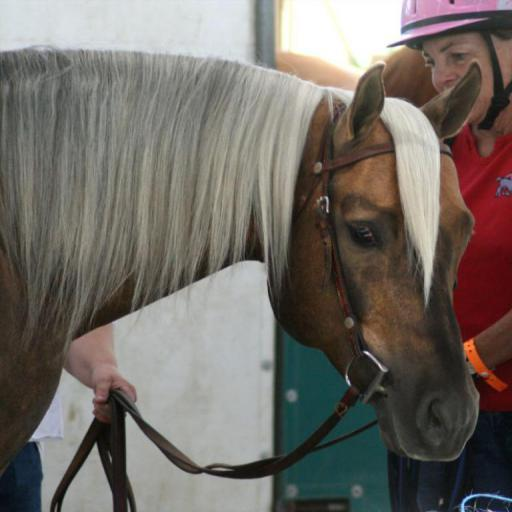horse: (0, 40, 482, 475)
